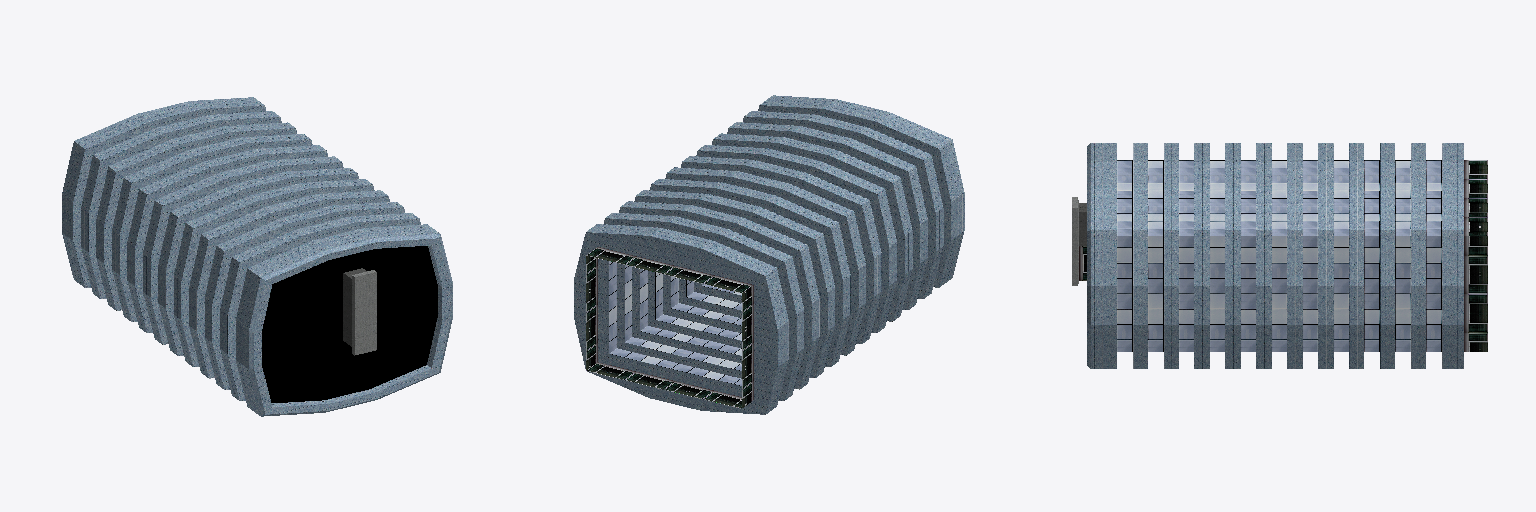
3 views of the same model, side by side, from view 1: azimuth 30°, elevation 25°; view 2: azimuth 150°, elevation 25°; view 3: azimuth 270°, elevation 25° (orthographic).
Visible parts, largest first — view 1: Object68; view 2: Object68; view 3: Object68.
Boxes of the visible parts, box(x1,y1,x2,y2) form: Object68: box(62, 97, 452, 416); Object68: box(574, 95, 964, 414); Object68: box(1072, 143, 1487, 368).
Bounding box in the file's own units: 42.08 × 32.04 × 74.45.
Materials: 6 (5 with a texture image).